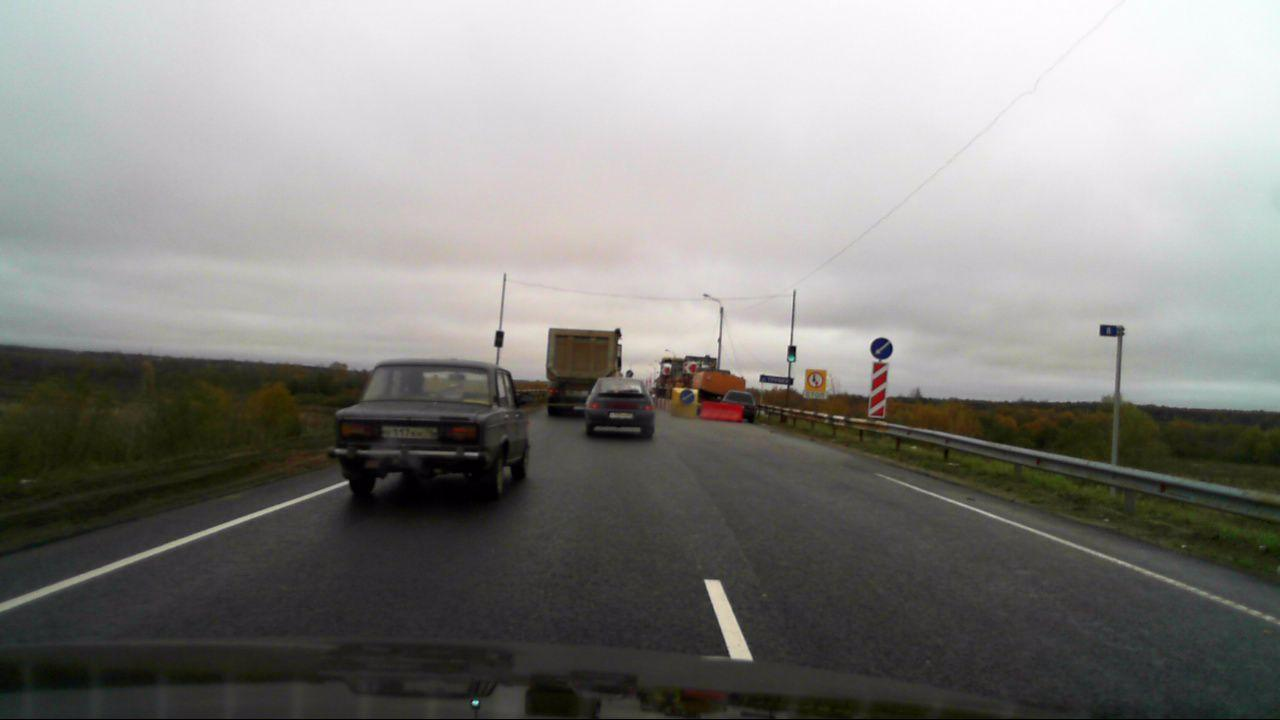1_34_2: (683, 360, 697, 375), (661, 363, 672, 377)
2_6: (807, 369, 824, 388)
4_2_2: (869, 336, 893, 359), (680, 389, 694, 405)
8_22_2: (869, 360, 888, 421)
